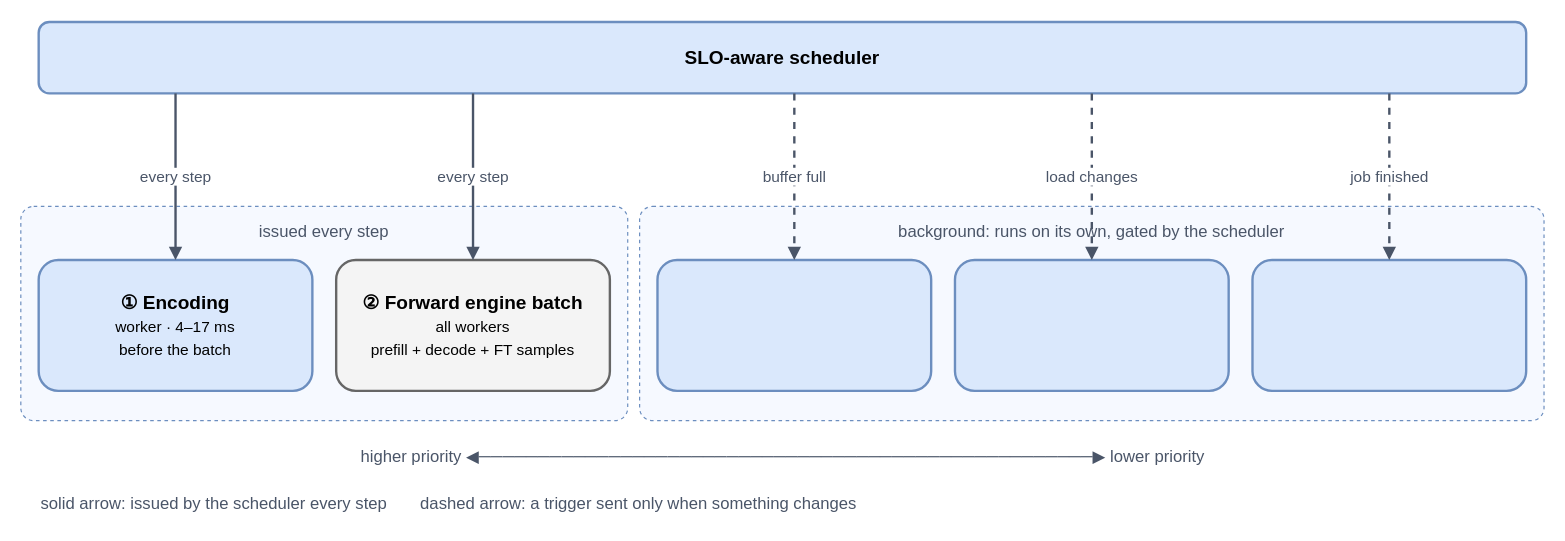
The diagram is 1565 pixels wide and 541 high, and some of its shapes have lost their labels. The shapes that lost their labels are listed below. From the top down, each one's centre as x and y in pixels, then its label:
At (x=794, y=325): "③ Backward batch backward process yields to ① and prefill".
At (x=1091, y=325): "④ Indexing own process GPU if no inference, else CPU".
At (x=1389, y=325): "⑤ Adapter handover background threads save · publish · next job".
